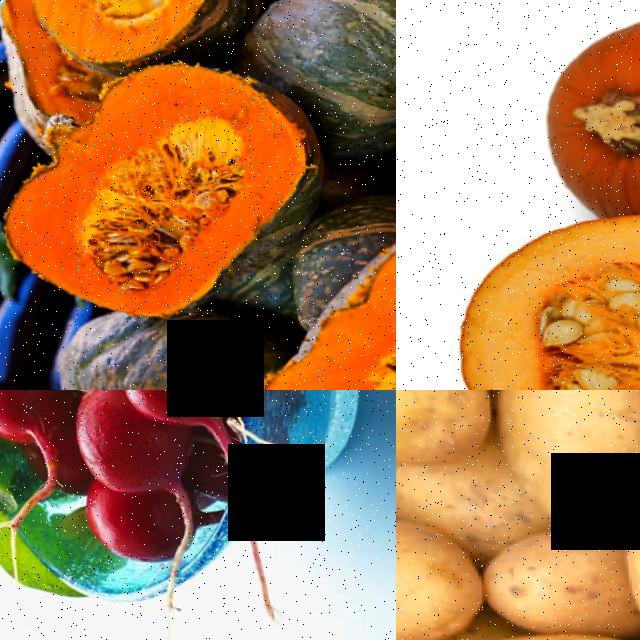potato: (491, 390, 640, 538)
pumpkin: (1, 37, 318, 323), (447, 179, 640, 390), (242, 181, 396, 390), (519, 0, 640, 228), (52, 295, 262, 390), (0, 0, 248, 74)
radishes: (0, 390, 239, 574)
spinach: (475, 511, 637, 640), (396, 508, 479, 640), (396, 390, 499, 480)
